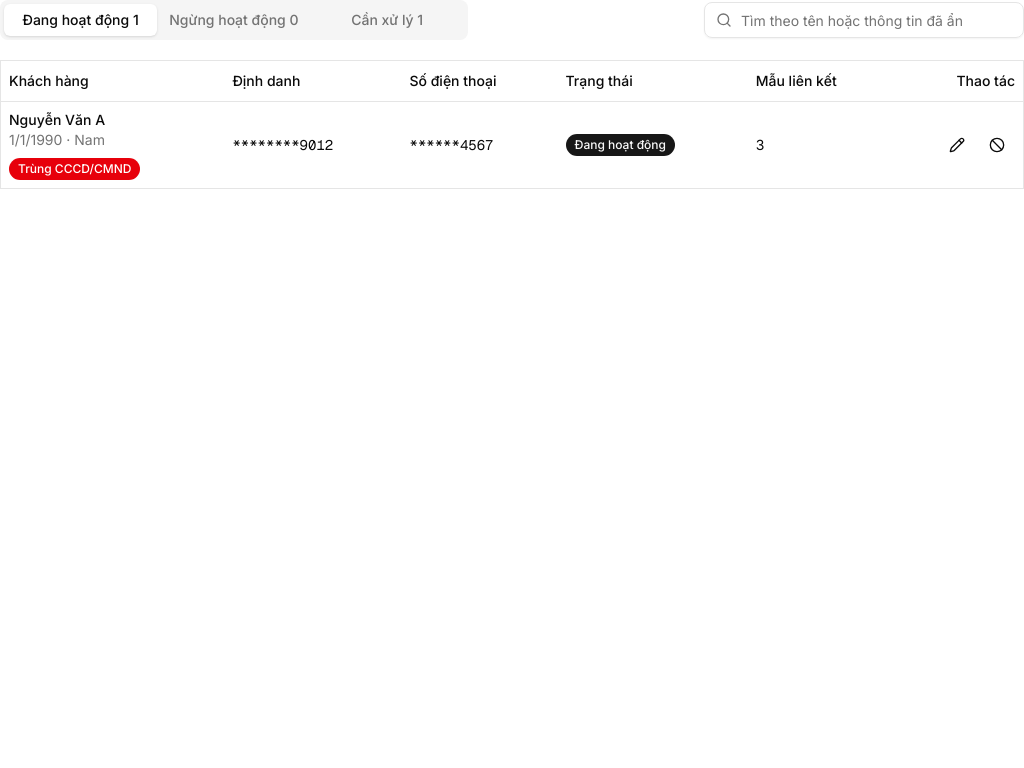
Test: ClientLifecycleWorkspace › uses masked candidate versions without loading off-page full identity
The image size is (1024, 768).
What coordinates should you click on to do the following:
click the tab "Cần xử lý 1"
I would click on:
 (387, 20)
Its box is [310,4,464,36].
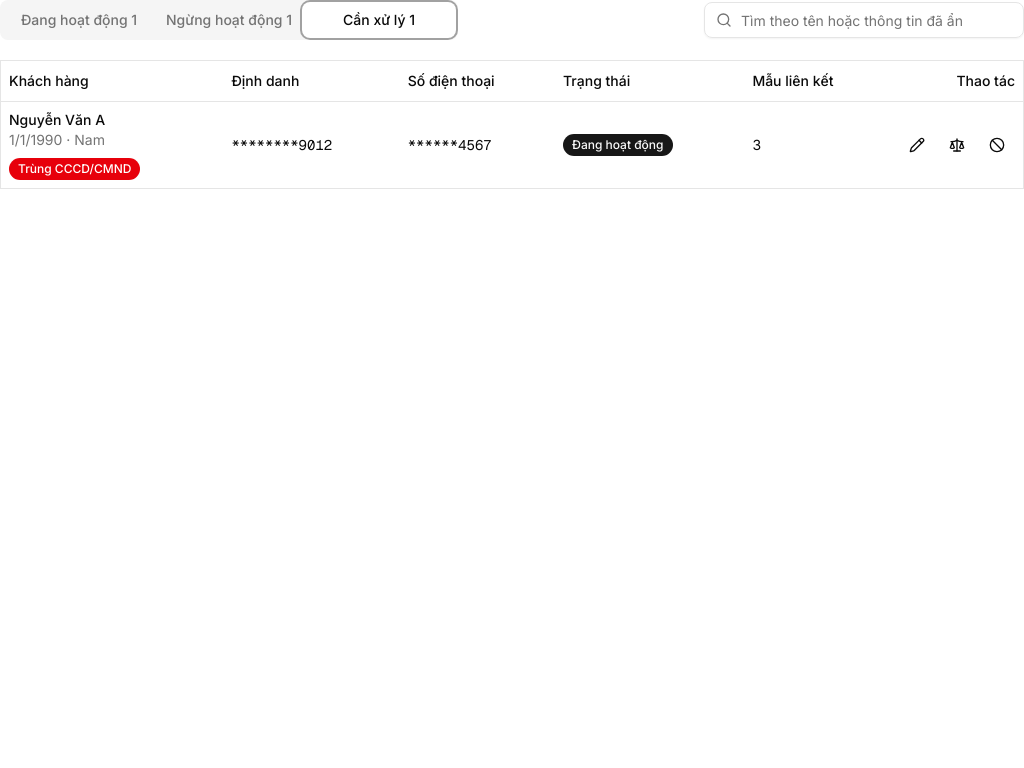
What coordinates should you click on to do the following:
click the button named "Xác nhận xung đột Nguyễn Văn A"
I would click on:
 (957, 144)
Its box is [939,126,975,162].
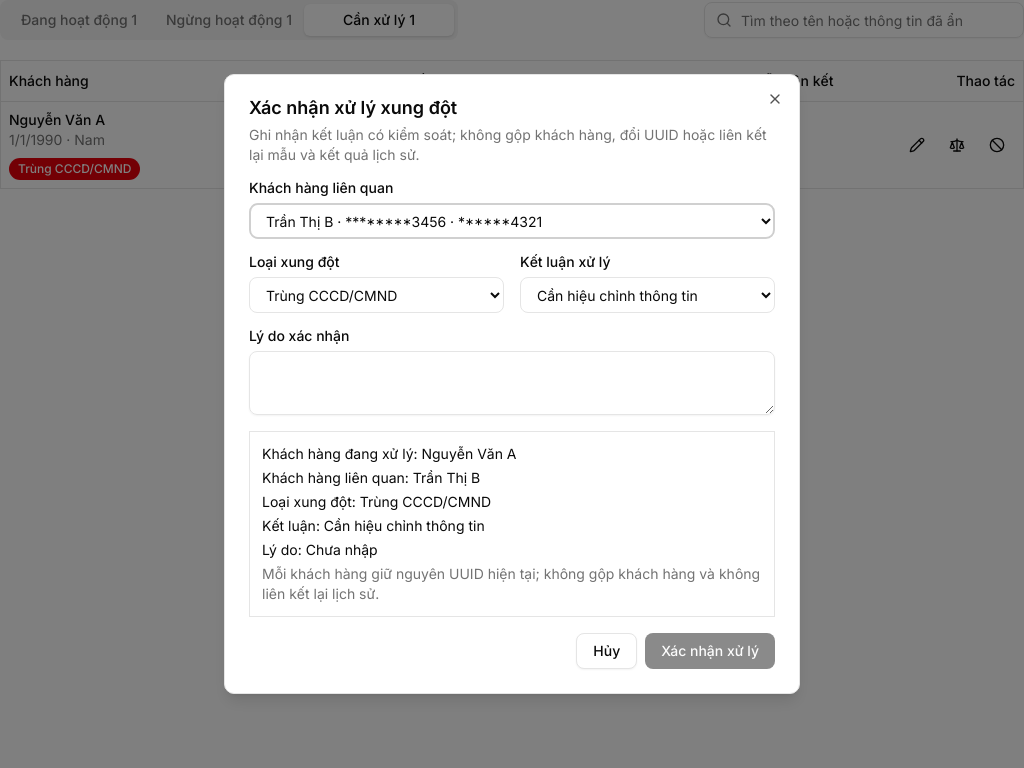
Expected: the dropdown labelled "Khách hàng liên quan" shows "Trần Thị B · ********3456 · ******4321", [249,203,775,239]
